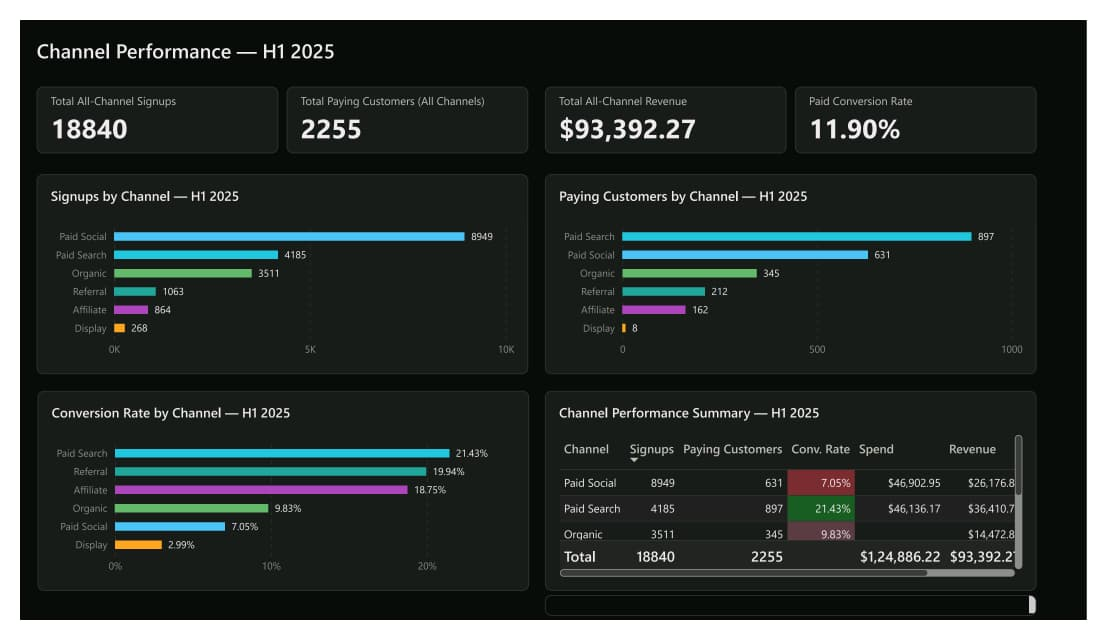

What the dashboard file says about the page in this screenshot:
{"tool":"powerbi","page":{"name":"Channel Performance","canvas":[1280,720],"ordinal":1},"visuals":[{"type":"textbox","box":[20,20,1240,40],"z":0},{"type":"cardVisual","title":"Total Paying Customers","fields":{"Data":["_Measures.Total Paying Customers (All Channels)"]},"box":[320,80,290,80],"z":1000},{"type":"cardVisual","title":"Total All-Channel Revenue","fields":{"Data":["_Measures.Total All-Channel Revenue"]},"box":[630,80,290,80],"z":2000},{"type":"cardVisual","title":"Paid Conversion Rate","fields":{"Data":["_Measures.Paid Conversion Rate"]},"box":[930,80,290,80],"z":3000},{"type":"cardVisual","title":"Total All-Channel Signups","fields":{"Data":["_Measures.Total All-Channel Signups"]},"box":[20,80,290,80],"z":4000},{"type":"clusteredBarChart","title":"Signups by Channel — H1 2025","fields":{"Category":["channel_summary.channel"],"Y":["Sum(channel_summary.signups)"]},"box":[20,185,590,240],"z":5000},{"type":"clusteredBarChart","title":"Paying Customers by Channel — H1 2025","fields":{"Category":["channel_summary.channel"],"Y":["Sum(channel_summary.paying)"]},"box":[630,185,590,240],"z":6000},{"type":"clusteredBarChart","title":"Conversion Rate by Channel — H1 2025","fields":{"Category":["channel_summary.channel"],"Y":["Sum(channel_summary.Channel CVR)"]},"box":[20.6,445,590,240],"z":7000},{"type":"tableEx","title":"Channel Performance Summary — H1 2025","fields":{"Values":["channel_summary.channel","Sum(channel_summary.signups)","Sum(channel_summary.paying)","channel_summary.Channel CVR","Sum(channel_summary.spend)","Sum(channel_summary.revenue)","channel_summary.cac","channel_summary.roas"]},"box":[630,445,590,240],"z":8000},{"type":"textbox","box":[630,690,590.1,25],"z":9000}]}

Visuals, with their boxes in screenshot pixels (x1, y1, x2, y2), scaled from the page's 1280x720 canvas onto the 1107x640 screenshot:
textbox: 17,18,1090,53
"Total Paying Customers" cardVisual: 277,71,528,142
"Total All-Channel Revenue" cardVisual: 545,71,796,142
"Paid Conversion Rate" cardVisual: 804,71,1055,142
"Total All-Channel Signups" cardVisual: 17,71,268,142
"Signups by Channel — H1 2025" clusteredBarChart: 17,164,528,378
"Paying Customers by Channel — H1 2025" clusteredBarChart: 545,164,1055,378
"Conversion Rate by Channel — H1 2025" clusteredBarChart: 18,396,528,609
"Channel Performance Summary — H1 2025" tableEx: 545,396,1055,609
textbox: 545,613,1055,636
